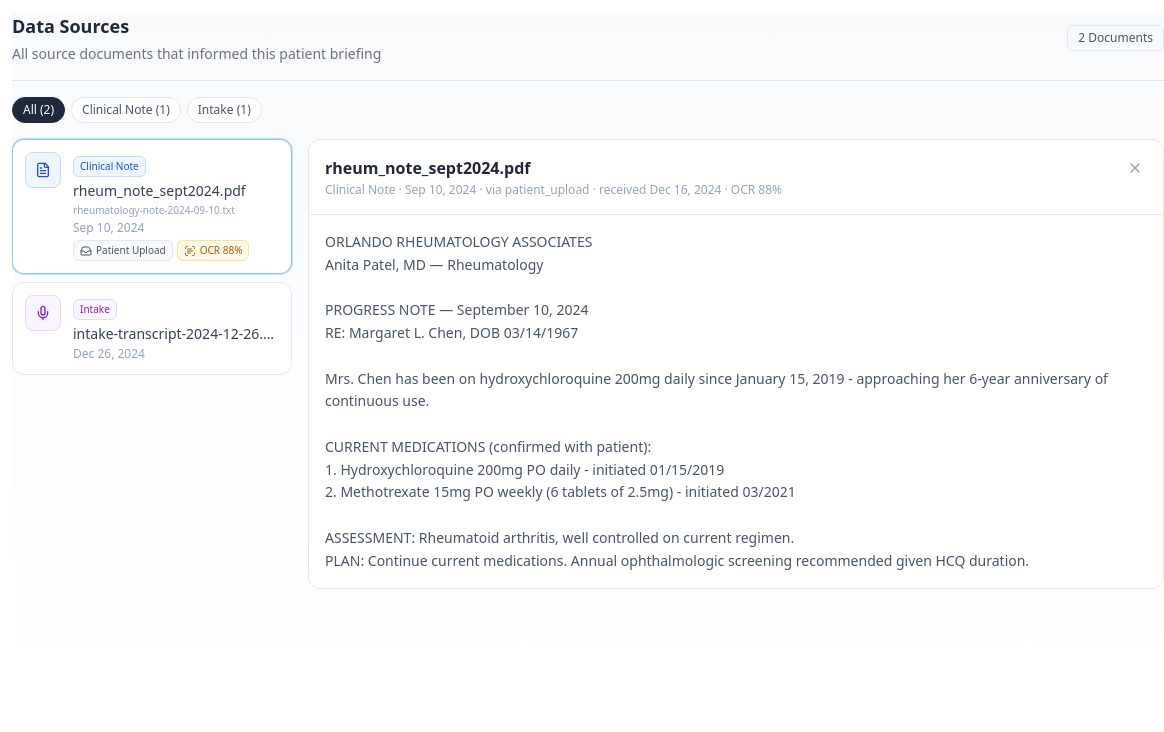
Test case: SourcesTab › lists documents, auto-opens the first (Q1), switches on click, and stays closed on dismiss
Expected: the text "2 Documents" is shown, [1067, 25, 1163, 51]
Expected: the text "Clinical Note" is shown, [73, 156, 146, 177]
Click the button "Intake intake-transcript-2024-12-26.txt Dec 26, 2024". click: x=152, y=328
box: [12, 282, 292, 375]
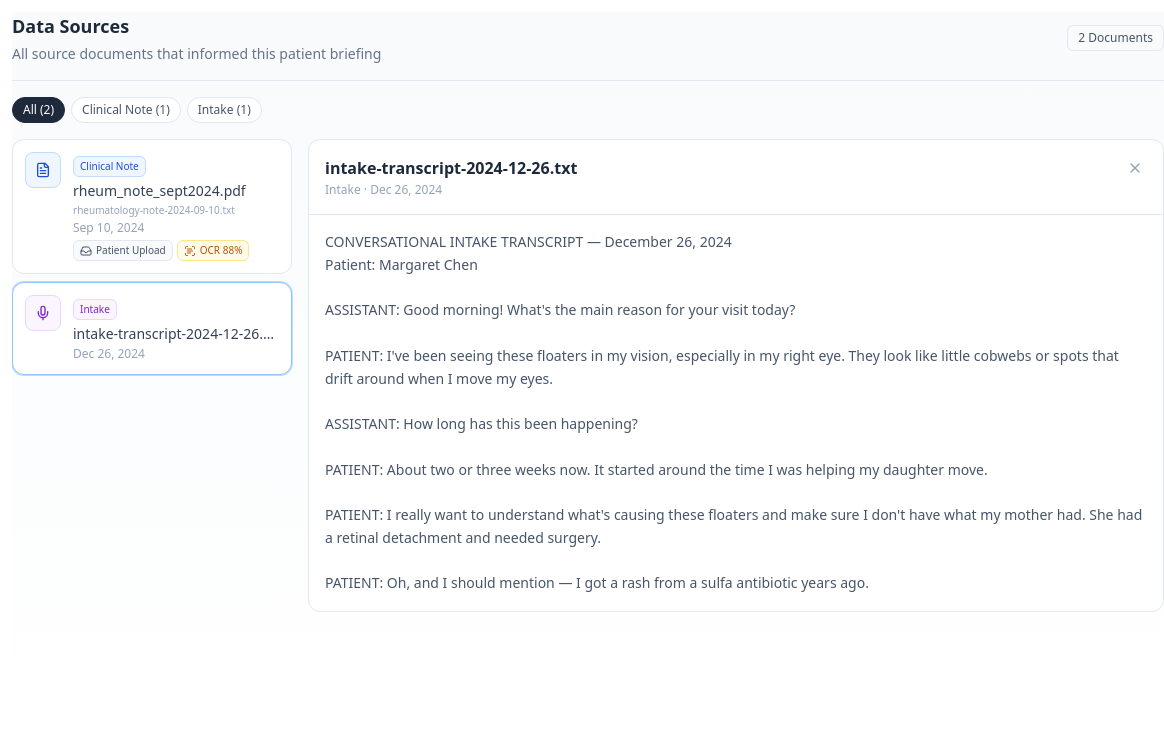
Expected: the text "CONVERSATIONAL INTAKE TRANSCRIPT" is shown, [325, 232, 1146, 592]
Dismissal sticks — the auto-select must not instantly reopen what the user closed.
Click the button named "Close document". click: x=1135, y=168
box: [1123, 156, 1147, 180]
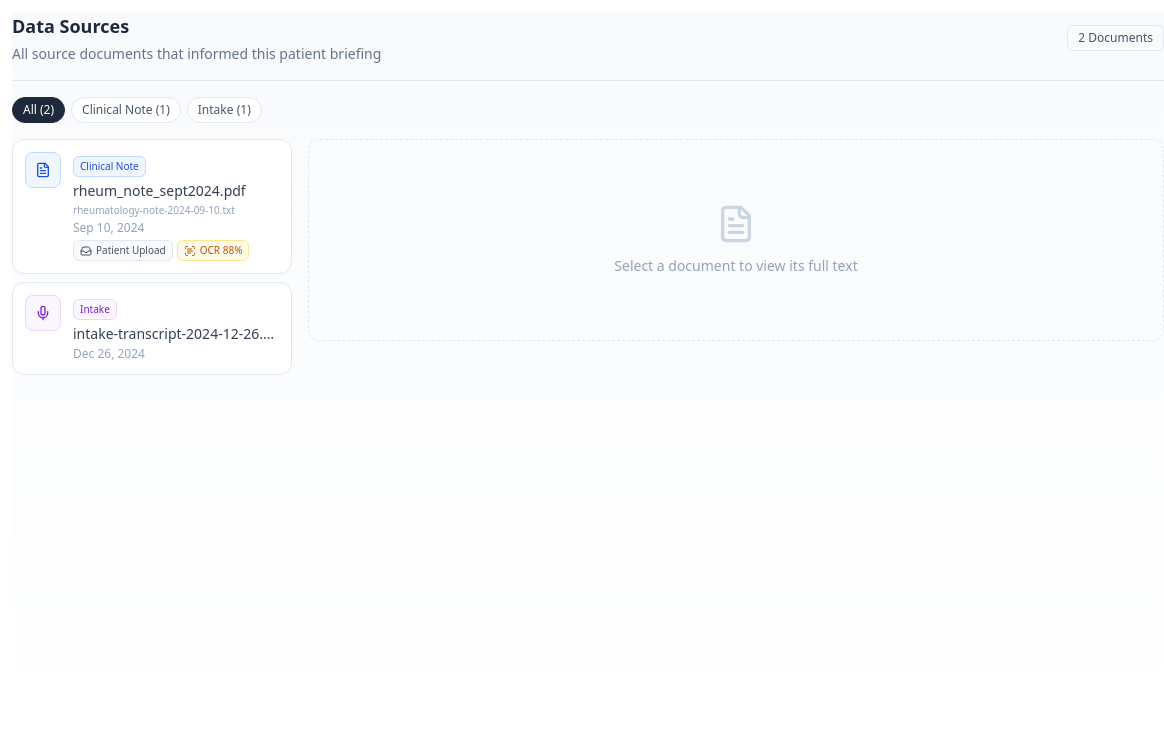
Expected: the text "CONVERSATIONAL INTAKE TRANSCRIPT" is gone
Expected: the text "Select a document to view its full text" is shown, [614, 256, 858, 275]
